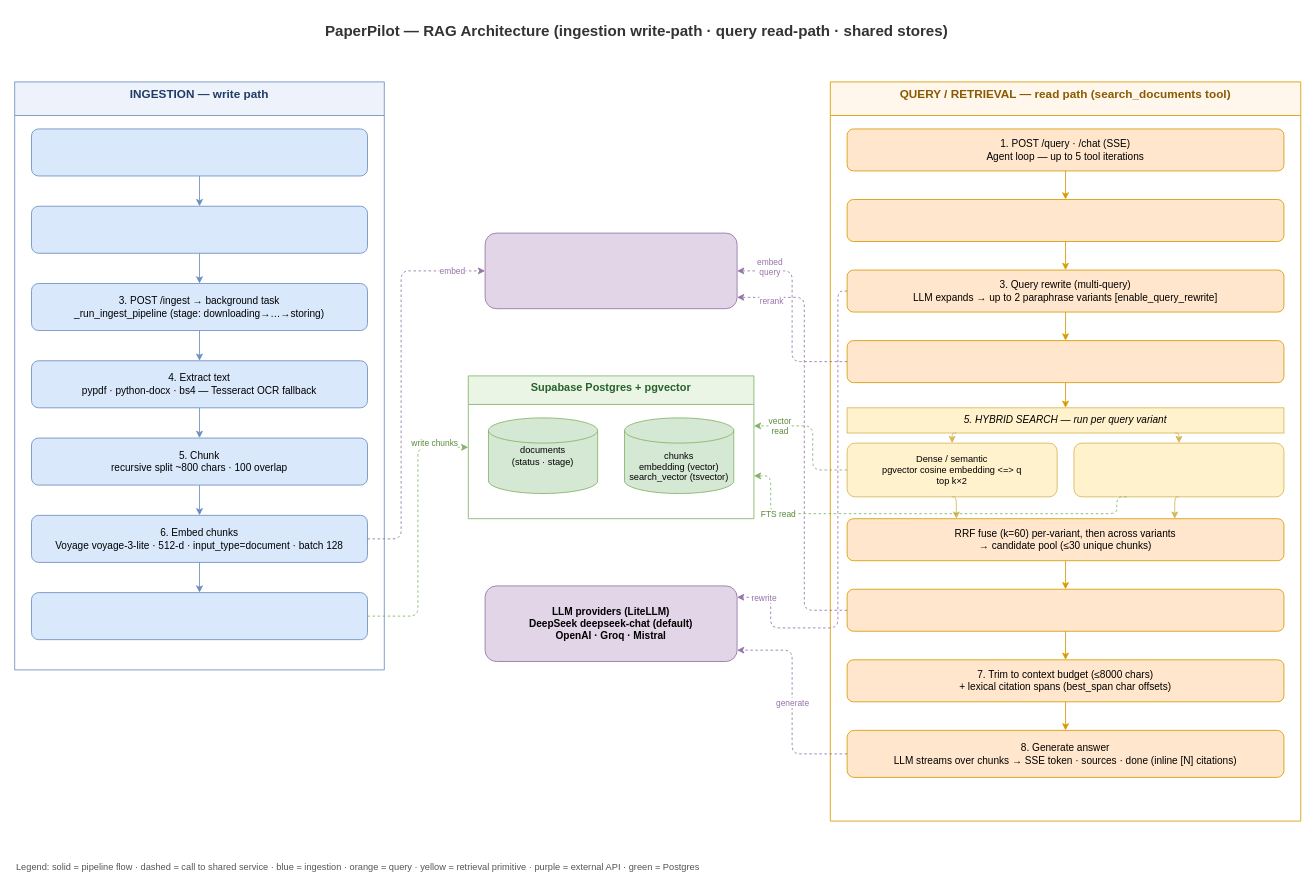
The diagram is 1315 pixels wide and 894 high, and some of its shapes have lost their labels. The shapes that lost their labels are listed below. From the top down, each one's centre as x and y in pixels, then its label:
At (199,152): "1. Upload file POST /upload — PDF · DOCX · HTML · TXT".
At (199,229): "2. Persist source Supabase Storage + insert documents row (status=pending)".
At (1065,220): "2. Tool call: search_documents(query, top_k)".
At (610,270): "Voyage AI — voyage-3-lite (embeddings · 512-d) — rerank-2-lite (reranker)".
At (1065,361): "4. Embed queries Voyage voyage-3-lite · input_type=query (original + variants)".
At (1178,469): "Sparse / lexical Postgres FTS websearch_to_tsquery ts_rank_cd · top k×2".
At (199,616): "7. Store chunks pgvector embedding + FTS search_vector → status=ready".
At (1065,609): "6. Rerank Voyage rerank-2-lite → top_k (5) [enable_rerank · identity fallback]".
